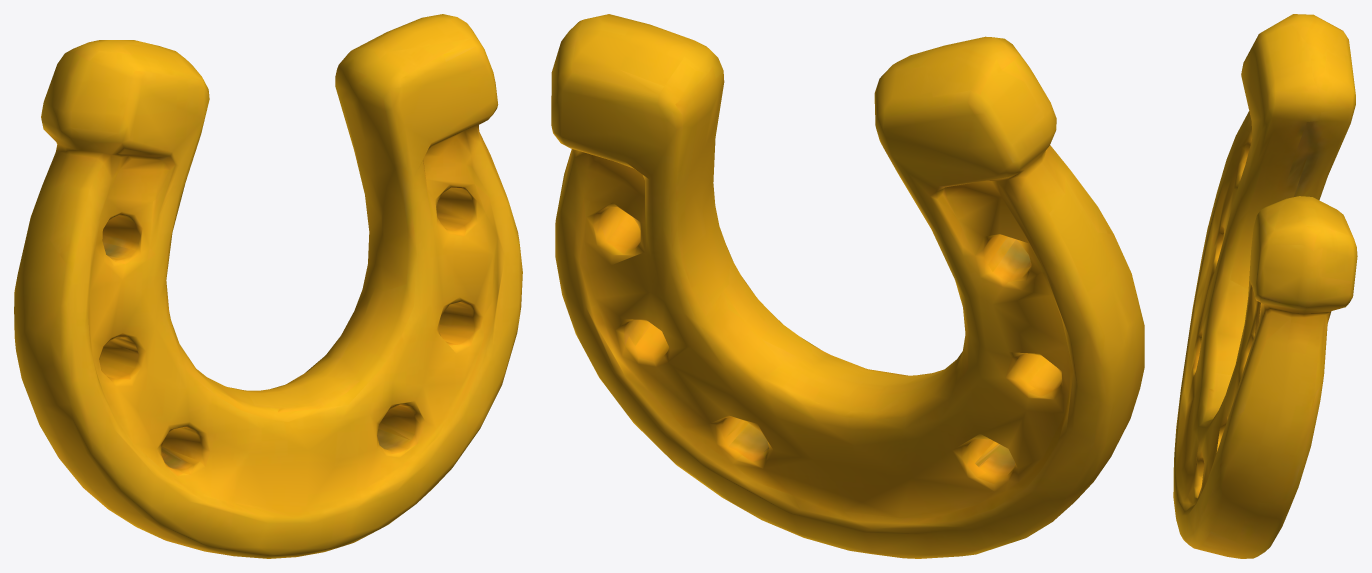
The picture shows the model from 3 angles, left to right: view 1: azimuth 30°, elevation 25°; view 2: azimuth 150°, elevation 25°; view 3: azimuth 270°, elevation 25°; orthographic projection. The views are drawn at different scales.
Visible parts, largest first — view 1: horseshoe; view 2: horseshoe; view 3: horseshoe.
Part boxes in pixels (x1=…): horseshoe: x1=14, y1=14, x2=522, y2=558; horseshoe: x1=551, y1=14, x2=1144, y2=558; horseshoe: x1=1173, y1=14, x2=1357, y2=558.
Bounding box in the file's own units: 0.0997 × 0.0998 × 0.0369.
Materials: 1 (1 with a texture image).
